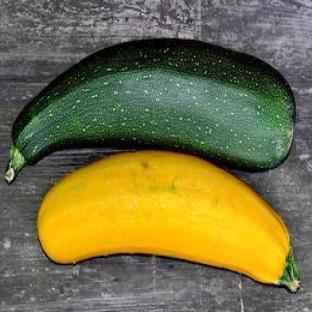Zucchini: (6, 39, 295, 182), (38, 152, 300, 291)
